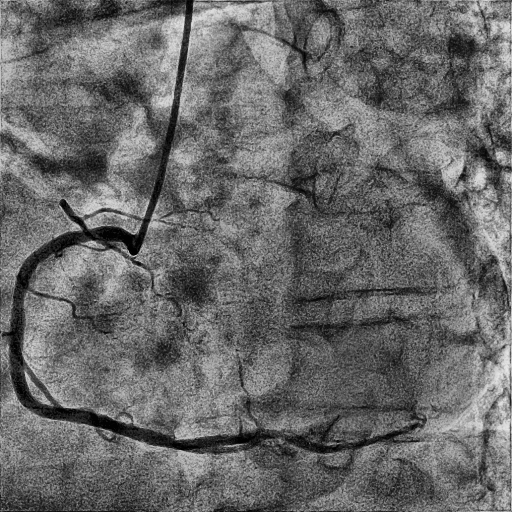pborca: (176, 426, 415, 453)
rca: (9, 226, 175, 449)
